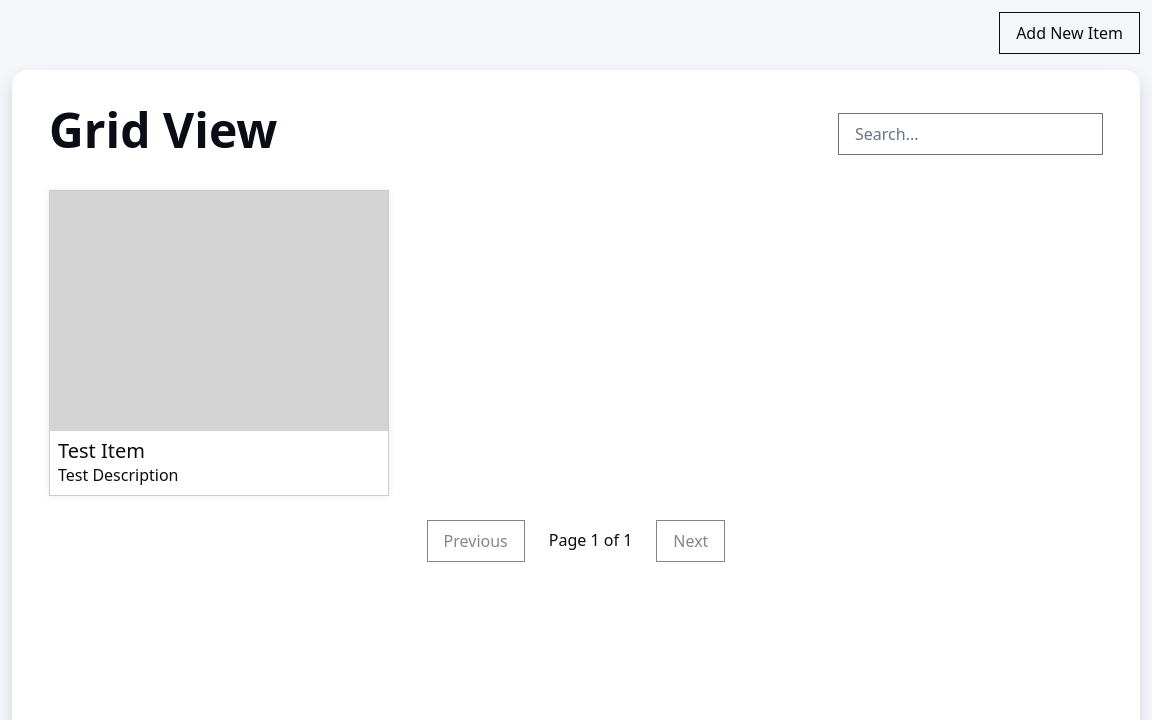
it: App Component › closes modal when close button is clicked
// Open modal
Click the button "Add New Item".
click(1070, 33)  # box [999, 12, 1140, 54]
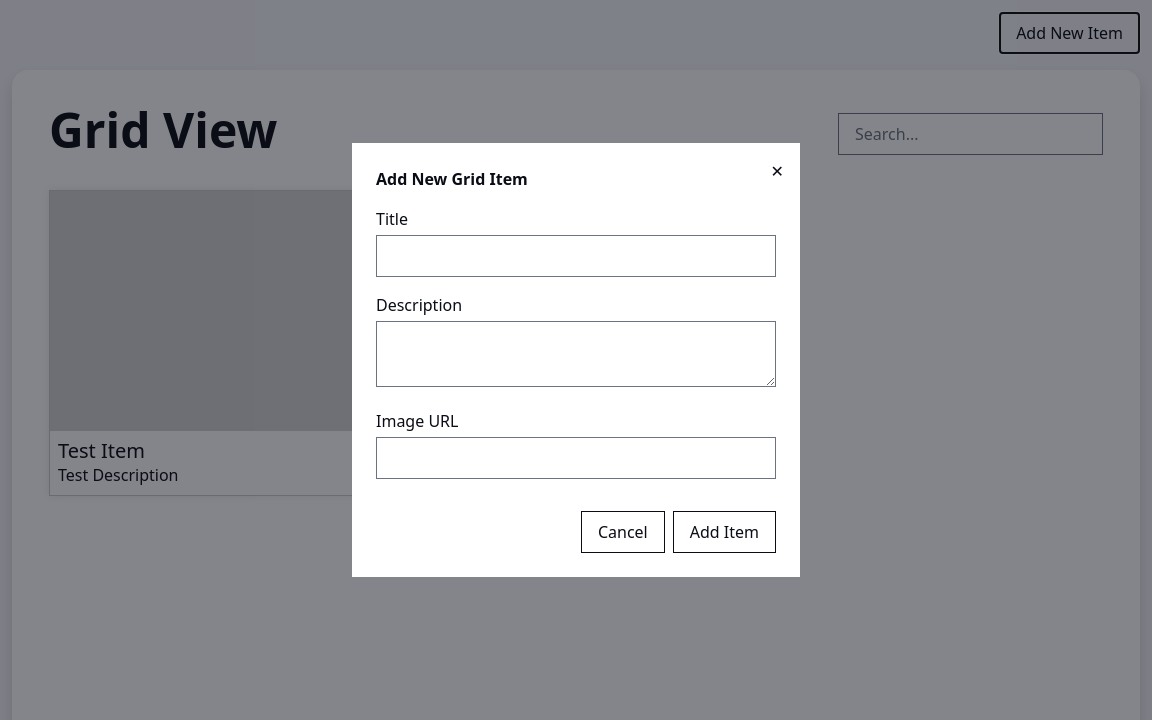
// Close modal
Click the button named "close".
click(777, 171)  # box [771, 159, 784, 183]
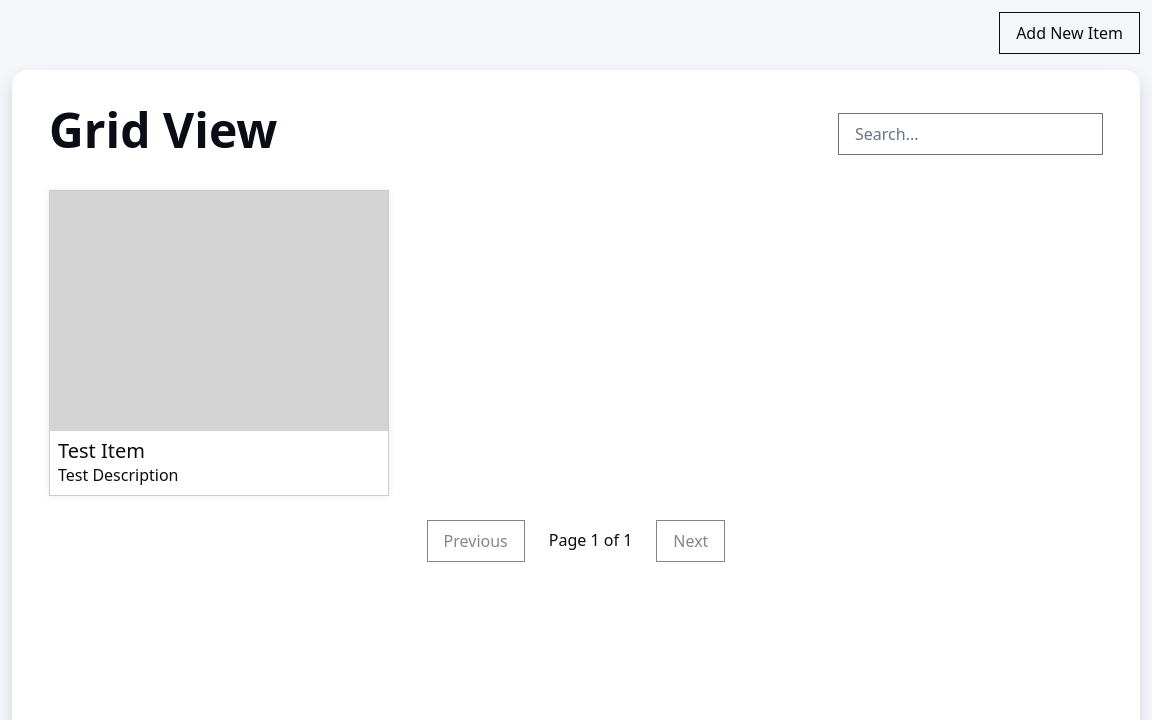
Check: the dialog is gone
